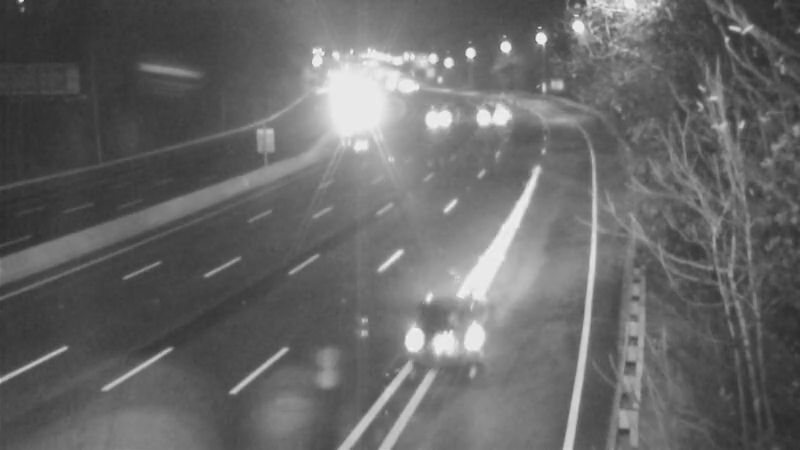vehicle: (389, 284, 499, 394), (405, 96, 455, 146), (464, 93, 514, 143)
